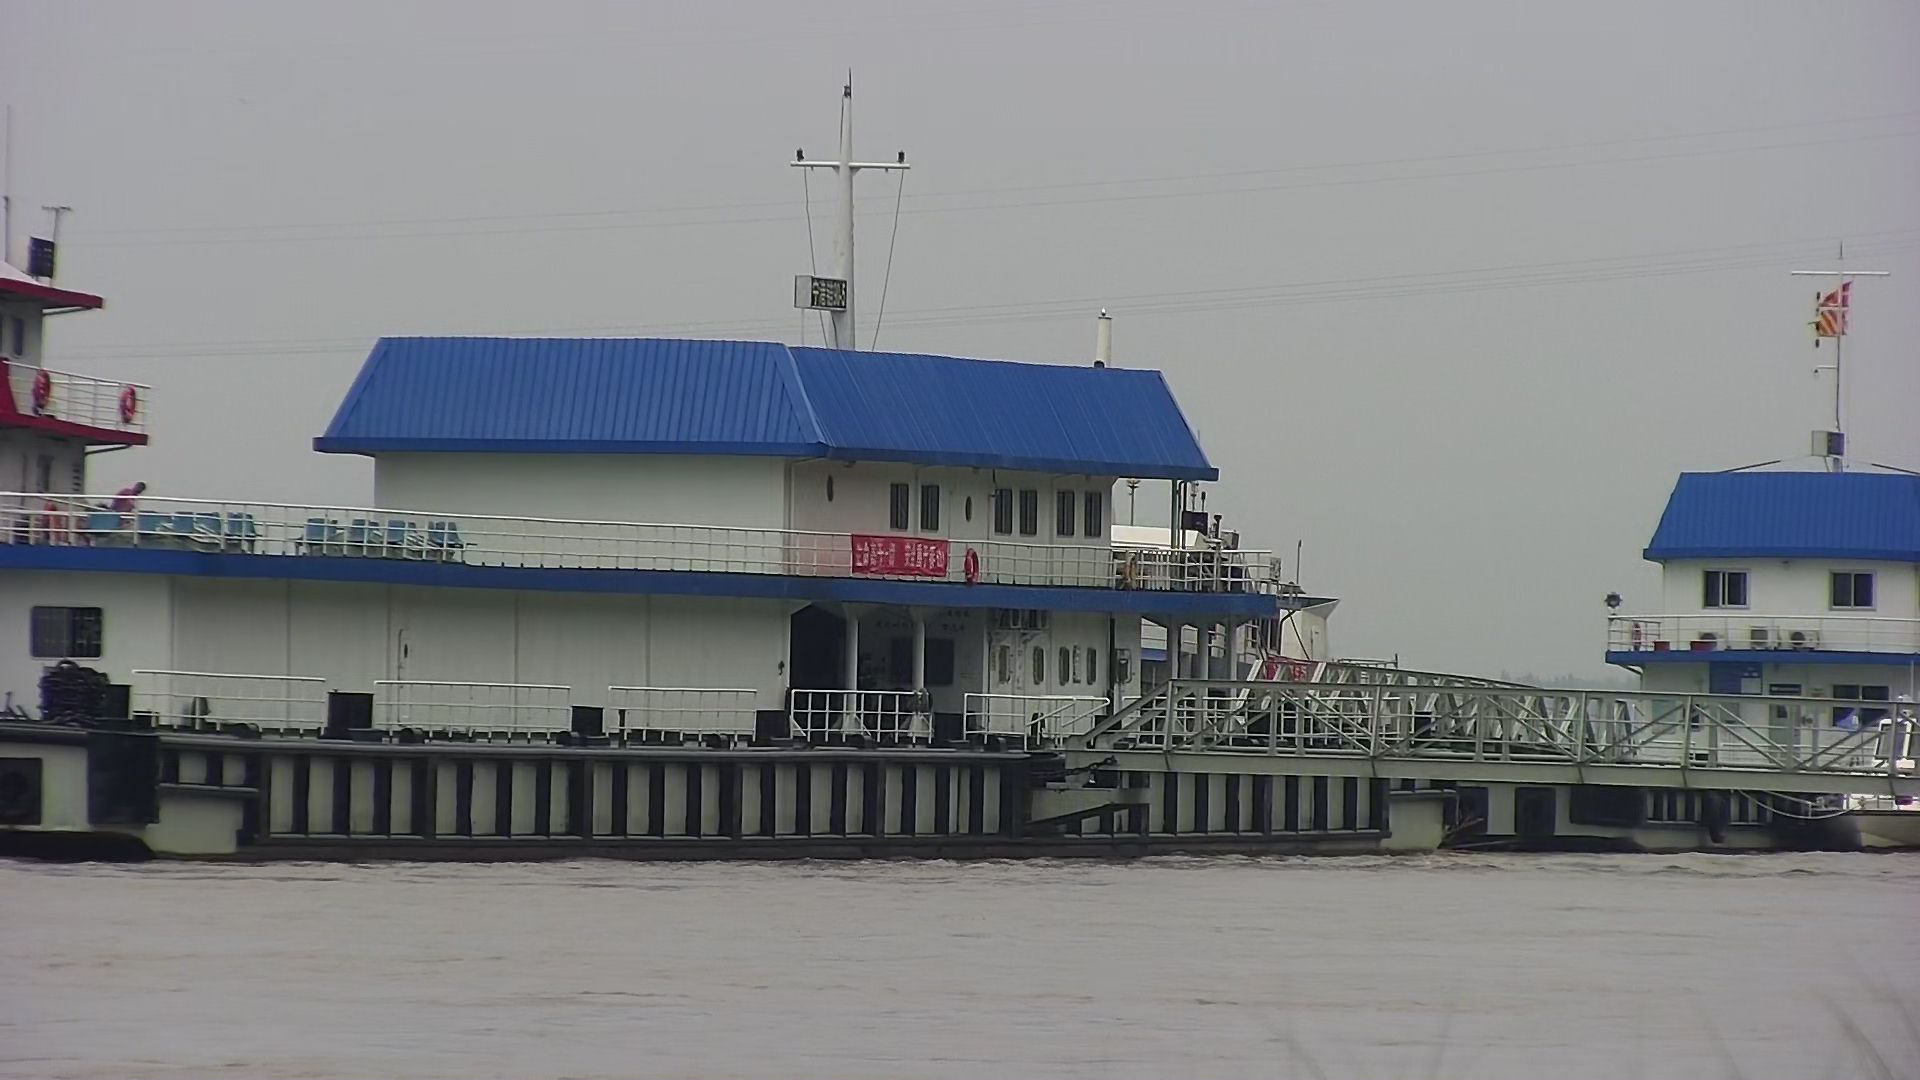ship: (1, 70, 1920, 870)
